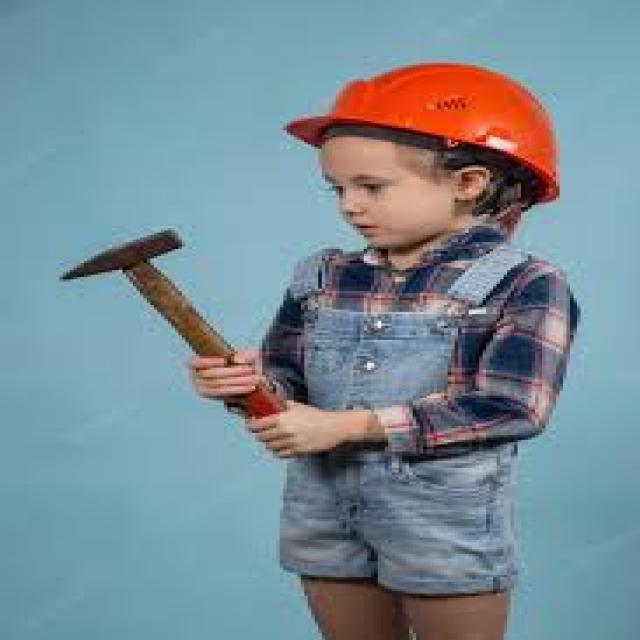hammer: (49, 224, 315, 456)
